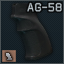SKS%5VZ-58 FAB Defense AG-58 pistol grip: (0, 0, 64, 64)
